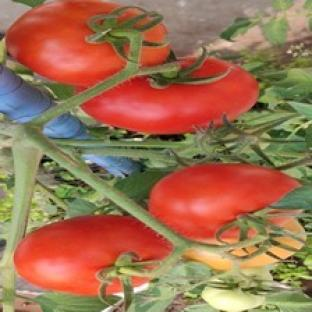Tomato: (81, 58, 259, 133), (14, 215, 171, 295), (148, 163, 299, 239), (240, 236, 303, 268), (201, 287, 264, 311)
